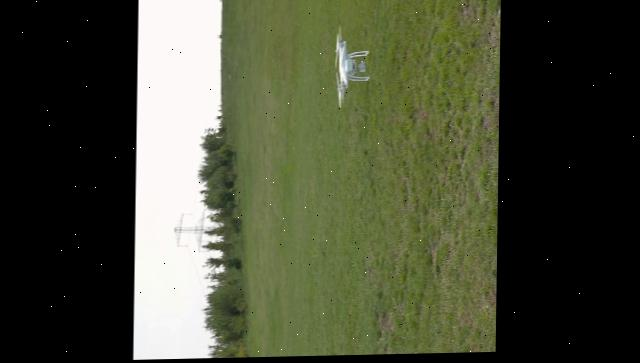drone: (334, 25, 372, 110)
